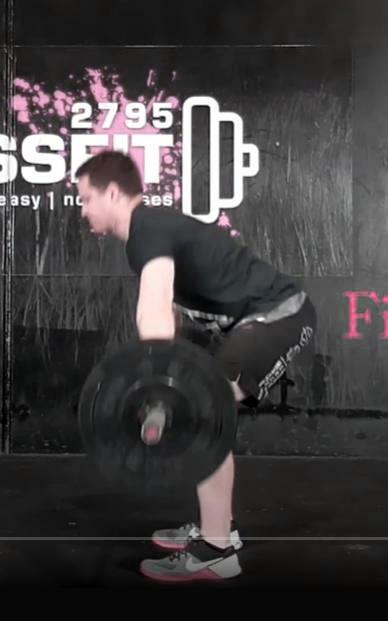Barbell: (139, 421, 165, 448)
